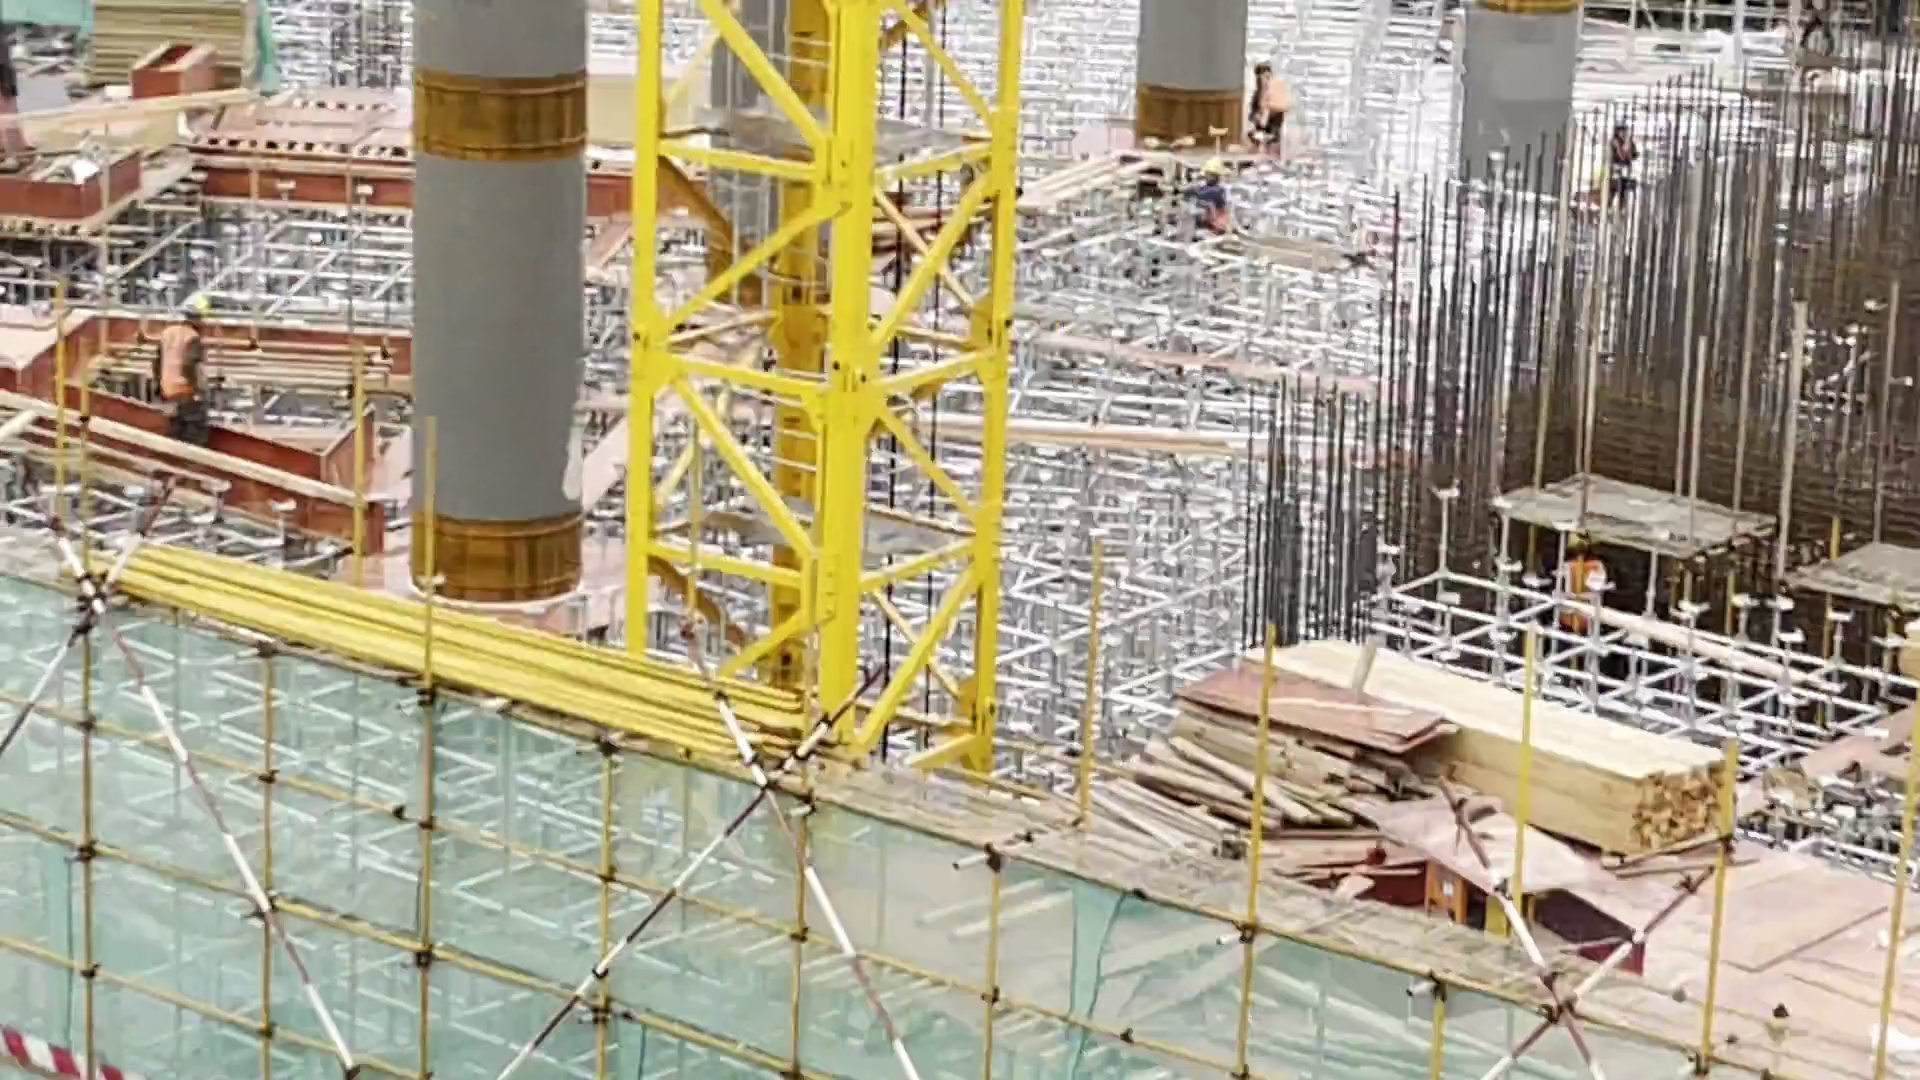cutter: (1373, 791, 1593, 935)
helmet: (176, 290, 215, 324), (1248, 43, 1273, 75), (1195, 155, 1224, 176)
person: (141, 289, 214, 438), (1243, 55, 1287, 155), (1179, 163, 1231, 234)
vest: (153, 325, 199, 397), (1185, 185, 1235, 226)
wood: (1259, 637, 1734, 850), (1077, 707, 1408, 839)
